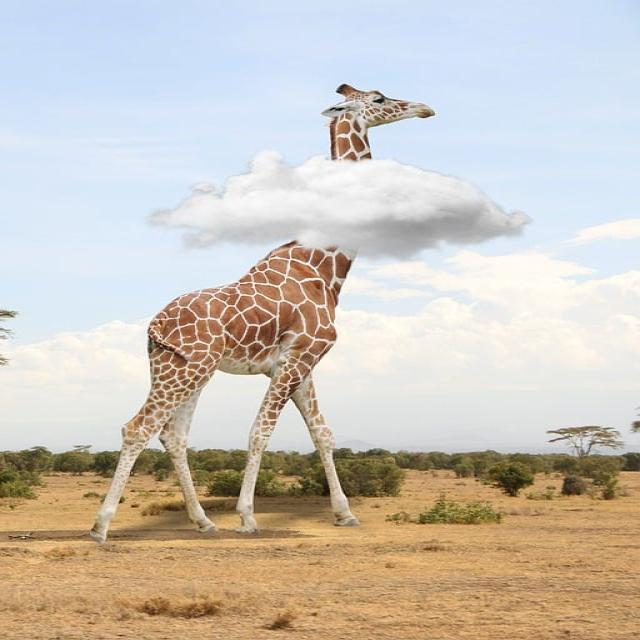Herbivorous: (321, 85, 435, 162)
